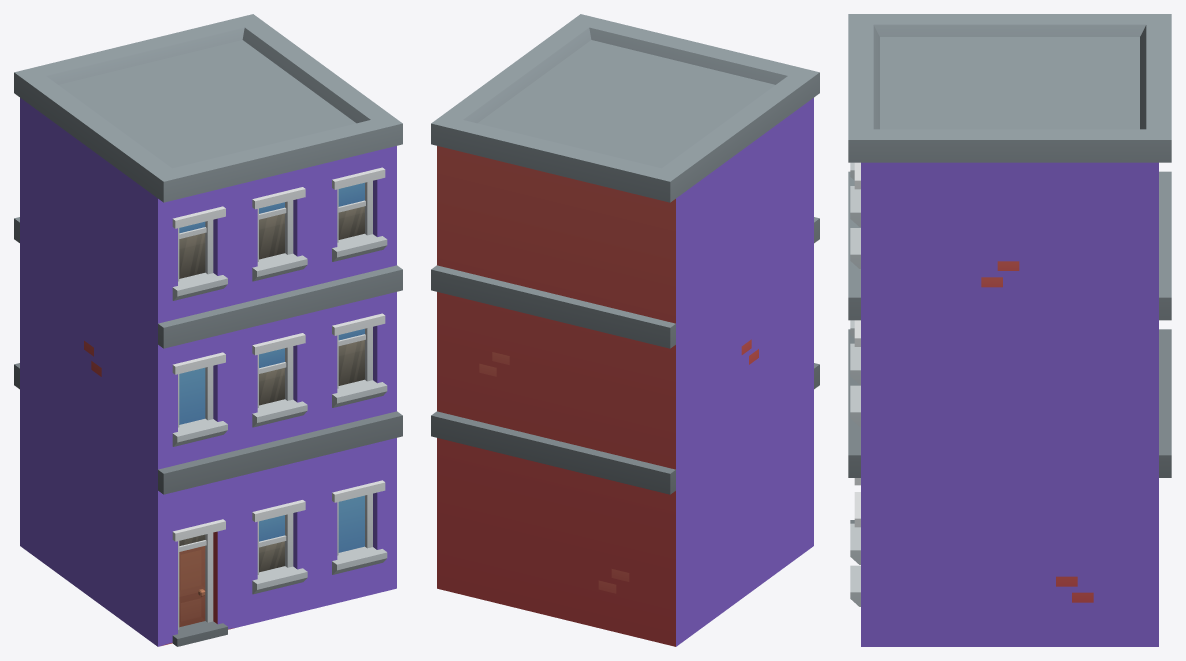
Rendered from nha10.glb.
The picture shows the model from 3 angles, left to right: view 1: azimuth 30°, elevation 25°; view 2: azimuth 150°, elevation 25°; view 3: azimuth 270°, elevation 25°; orthographic projection. The views are drawn at different scales.
Parts seen in each view (by area): view 1: building_C_withoutBase_Cube.940; view 2: building_C_withoutBase_Cube.940; view 3: building_C_withoutBase_Cube.940.
Part boxes in pixels (x1,y1,x2,y2): building_C_withoutBase_Cube.940: (14, 14, 402, 646); building_C_withoutBase_Cube.940: (431, 14, 819, 646); building_C_withoutBase_Cube.940: (848, 14, 1171, 646).
Size of the model in its own units: 1.21 by 2.25 by 1.3.
2 materials, 1 textured.
